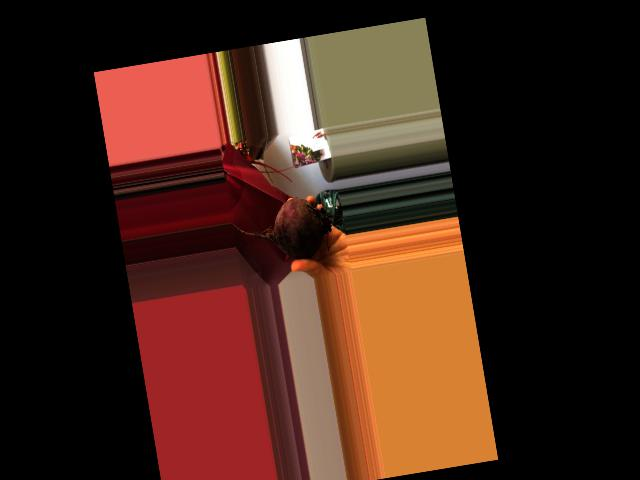beet: (229, 190, 348, 269)
